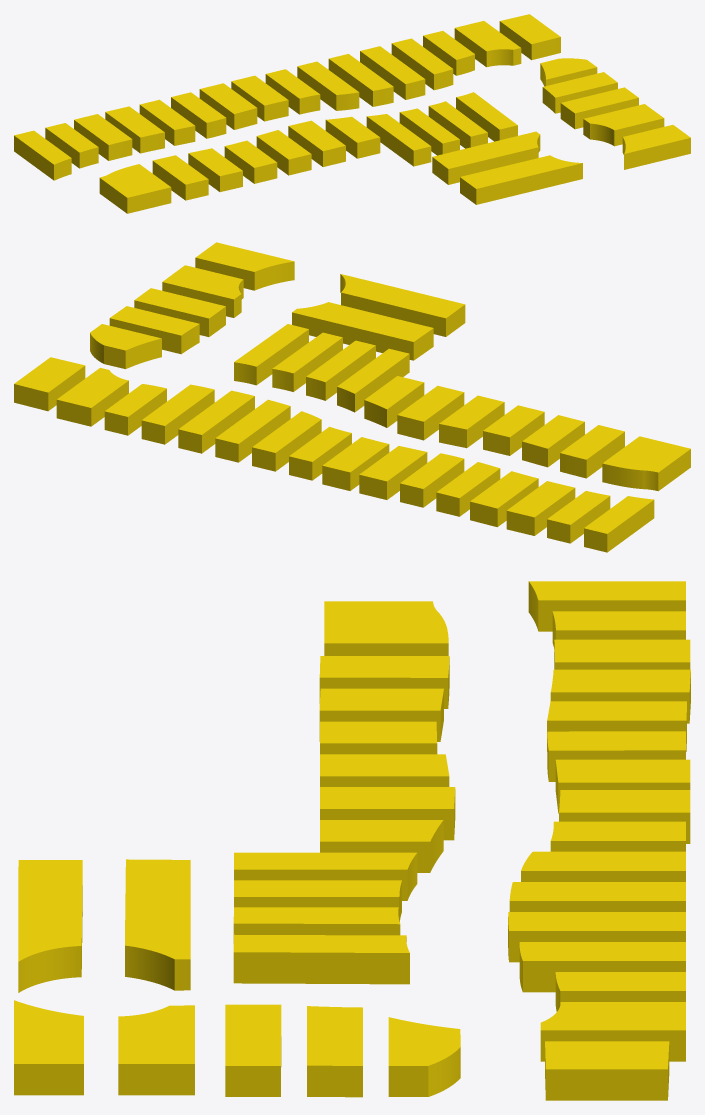
3 renders of one model, top to bottom at view 1: azimuth 30°, elevation 25°; view 2: azimuth 150°, elevation 25°; view 3: azimuth 270°, elevation 25°, orthographic. The views are drawn at different scales.
Visible parts, largest first — view 1: E-1; view 2: E-1; view 3: E-1.
Boxes of the visible parts, box(x1,y1,x2,y2) form: E-1: box(14, 14, 690, 213); E-1: box(14, 242, 690, 552); E-1: box(14, 581, 690, 1100).
Size of the model in its own units: 268 by 8 by 157.
